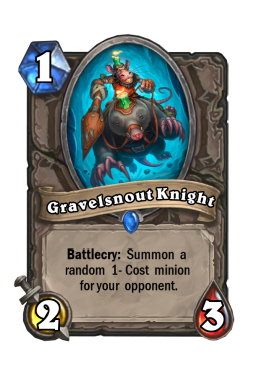attack: (22, 292, 73, 342)
cost: (18, 40, 72, 96)
health: (191, 280, 236, 341)
name: (41, 179, 220, 222)
text: (51, 232, 206, 315)
